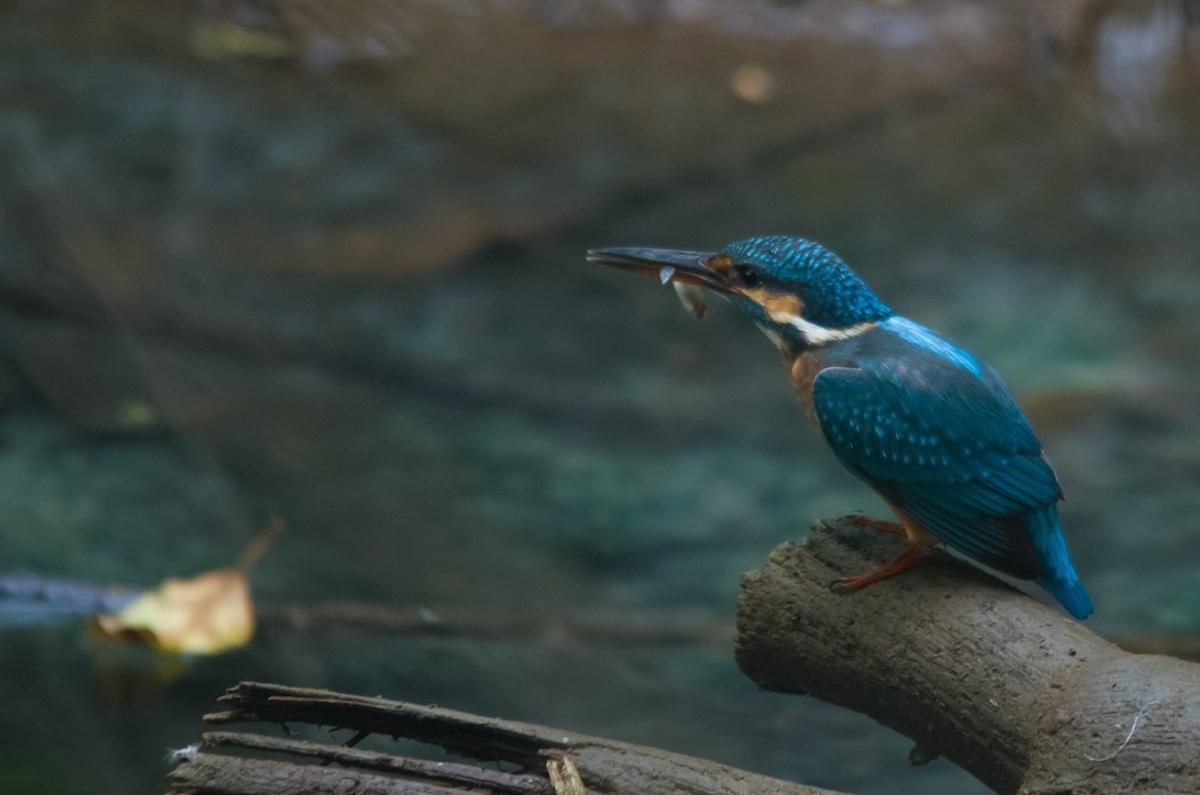kingfisher: (588, 206, 1121, 619)
